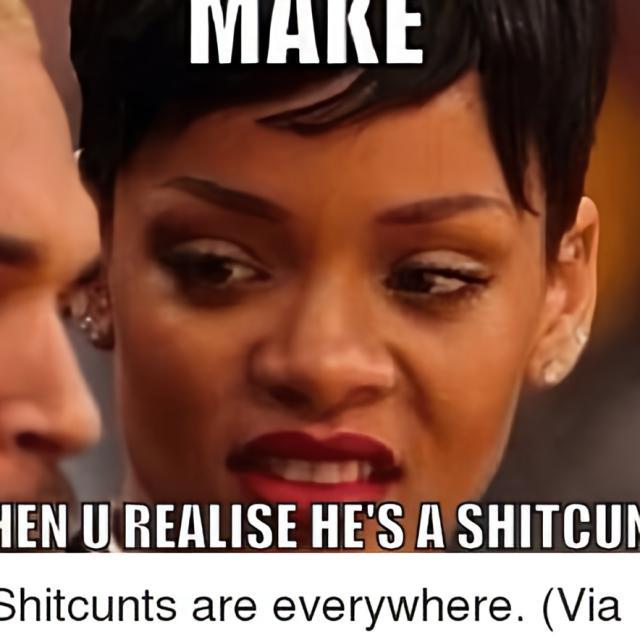disgust: (111, 68, 549, 500)
